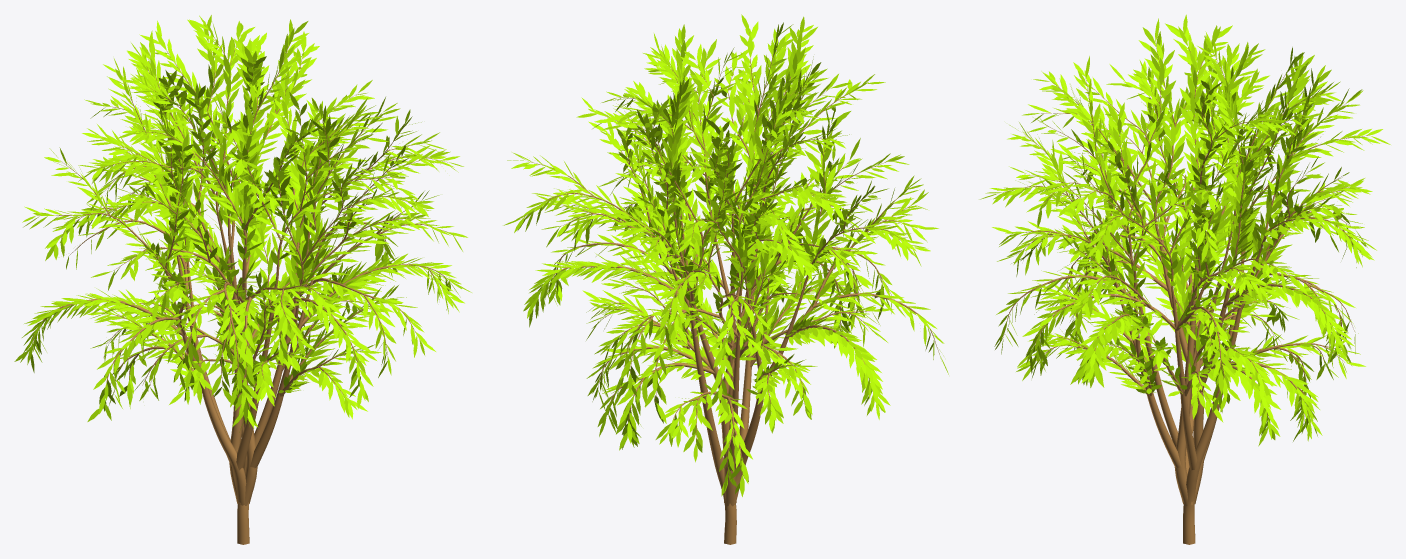
Rendered from trees.glb.
The picture shows the model from 3 angles, left to right: view 1: azimuth 30°, elevation 25°; view 2: azimuth 150°, elevation 25°; view 3: azimuth 270°, elevation 25°; orthographic projection.
Visible parts, largest first — view 1: leaves, tree; view 2: leaves, tree; view 3: leaves, tree.
Boxes of the visible parts, left/top/right/bottom form: leaves: left=14, top=15, right=471, bottom=432; tree: left=33, top=37, right=447, bottom=544; leaves: left=503, top=14, right=948, bottom=496; tree: left=522, top=33, right=939, bottom=544; leaves: left=979, top=14, right=1390, bottom=446; tree: left=1003, top=43, right=1369, bottom=544.
Bounding box in the file's own units: 6.97 × 8.65 × 6.54.
